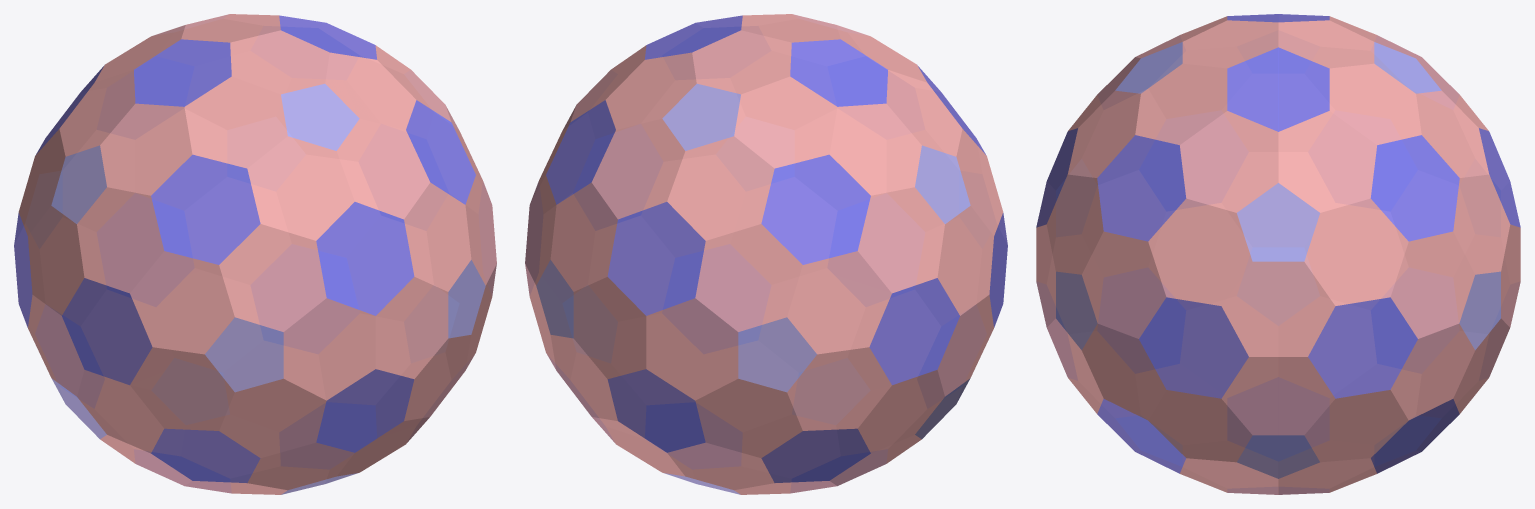
Rendered from TruncatedPentakisDodecahedron2.obj.
3 renders of one model, left to right at view 1: azimuth 30°, elevation 25°; view 2: azimuth 150°, elevation 25°; view 3: azimuth 270°, elevation 25°, orthographic.
Size of the model in its own units: 9.38 by 9.38 by 9.38.
